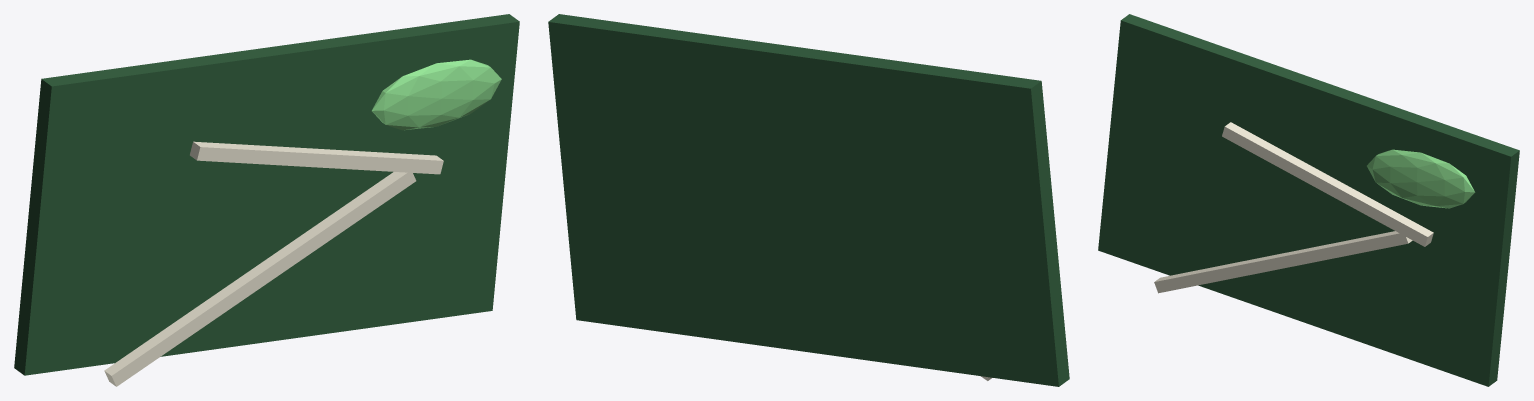
Rendered from 03_weathering_wear_overlay_3.glb.
3 renders of one model, left to right at view 1: azimuth 30°, elevation 25°; view 2: azimuth 150°, elevation 25°; view 3: azimuth 330°, elevation 25°, orthographic. The views are drawn at different scales.
Visible parts, largest first — view 1: wear_plate, scratch_a, rust_or_moss_spot, scratch_b; view 2: wear_plate; view 3: wear_plate, rust_or_moss_spot, scratch_b, scratch_a.
Boxes of the visible parts, box(x1,y1,x2,y2) form: wear_plate: box(14, 14, 519, 375); scratch_a: box(104, 172, 416, 386); rust_or_moss_spot: box(372, 59, 501, 130); scratch_b: box(190, 141, 443, 174); wear_plate: box(548, 14, 1069, 386); wear_plate: box(1098, 14, 1519, 386); rust_or_moss_spot: box(1367, 149, 1474, 208); scratch_b: box(1222, 122, 1433, 246); scratch_a: box(1154, 231, 1412, 293).
Size of the model in its own units: 1.37 by 0.8766 by 0.134.
